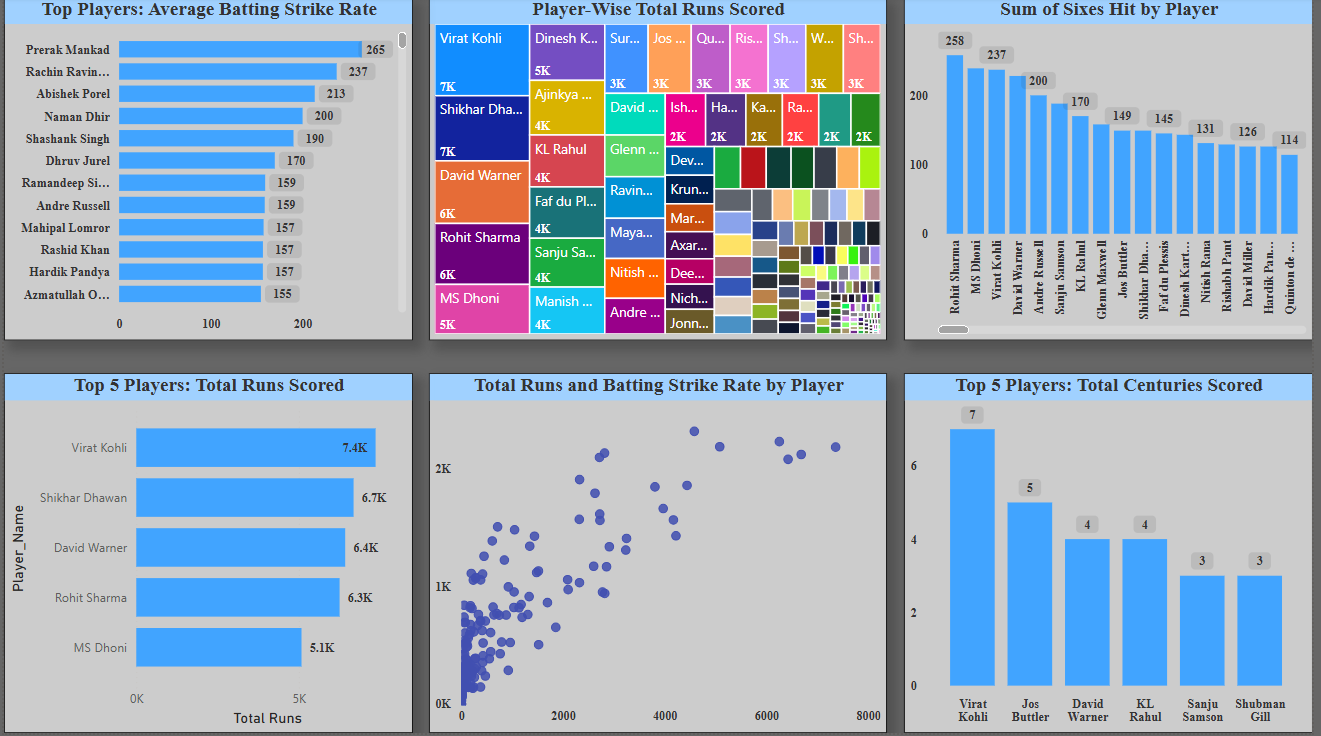

This screenshot's page, from the dashboard's own definition file:
{"tool":"powerbi","page":{"name":"Batting","canvas":[1280,720],"ordinal":2},"visuals":[{"type":"treemap","title":"Player-Wise Total Runs Scored","fields":{"Group":["cricket_data.Player_Name"],"Values":["Sum(cricket_data.Runs_Scored)"]},"box":[416,0,448,336],"z":0},{"type":"barChart","title":"Top Players: Average Batting Strike Rate","fields":{"Category":["cricket_data.Player_Name"],"Y":["Avg(cricket_data.Batting_Strike_Rate)"]},"box":[0,0,400,336],"z":1000},{"type":"columnChart","title":"Top 5 Players: Total Centuries Scored","fields":{"Category":["cricket_data.Player_Name"],"Y":["Sum(cricket_data.Centuries)"]},"box":[880,368,400,352],"z":2000},{"type":"columnChart","title":"Sum of Sixes Hit by Player","fields":{"Category":["cricket_data.Player_Name"],"Y":["Sum(cricket_data.Sixes)"]},"box":[880,0,400,336],"z":3000},{"type":"barChart","title":"Top 5 Players: Total Runs Scored","fields":{"Category":["cricket_data.Player_Name"],"Y":["cricket_data.Total Runs"]},"box":[0,368,400,352],"z":5000},{"type":"scatterChart","title":"Total Runs and Batting Strike Rate by Player","fields":{"X":["Sum(cricket_data.Runs_Scored)"],"Y":["Sum(cricket_data.Batting_Strike_Rate)"],"Category":["cricket_data.Player_Name"]},"box":[416,368,448,352],"z":5001}]}

Visuals, with their boxes in screenshot pixels (x1, y1, x2, y2), scaled from the page's 1280x720 canvas onto the 1321x736 screenshot:
"Player-Wise Total Runs Scored" treemap: (429, 0, 892, 343)
"Top Players: Average Batting Strike Rate" barChart: (0, 0, 413, 343)
"Top 5 Players: Total Centuries Scored" columnChart: (908, 376, 1320, 735)
"Sum of Sixes Hit by Player" columnChart: (908, 0, 1320, 343)
"Top 5 Players: Total Runs Scored" barChart: (0, 376, 413, 735)
"Total Runs and Batting Strike Rate by Player" scatterChart: (429, 376, 892, 735)
